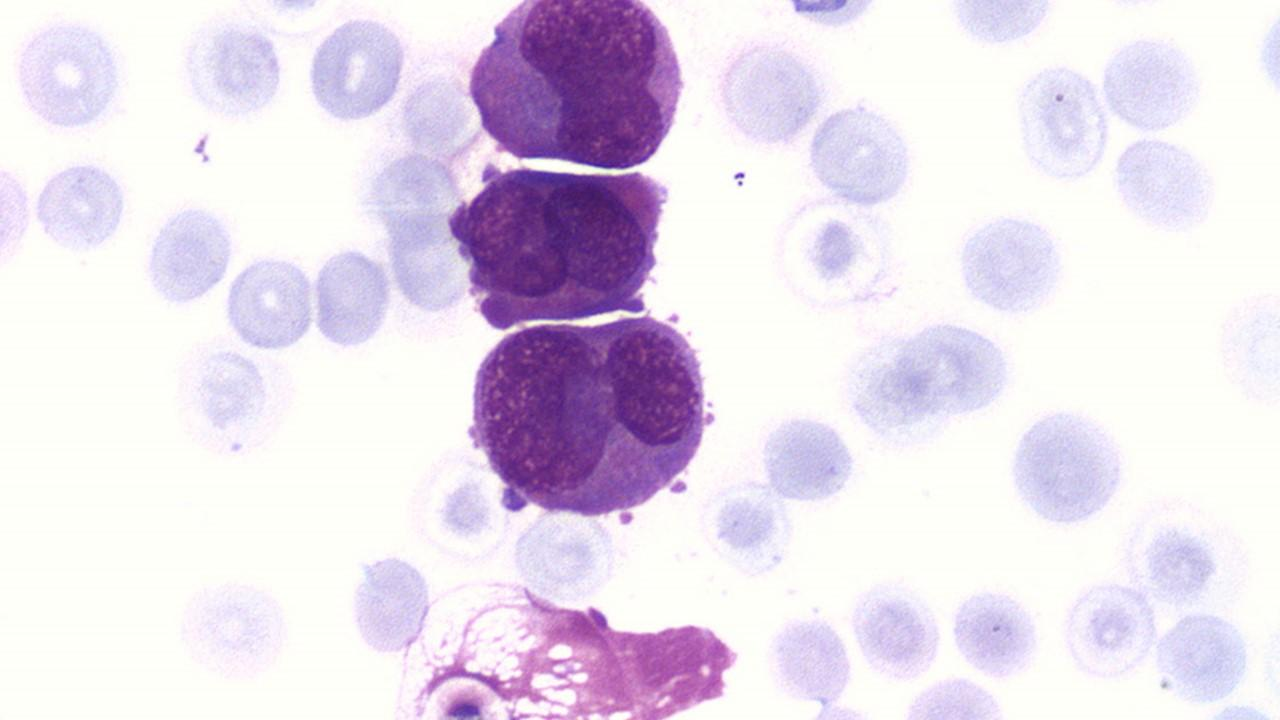Platelets: (616, 510, 636, 528)
RBC: (832, 312, 1022, 457), (165, 332, 306, 466), (1003, 398, 1135, 535), (6, 8, 137, 144), (767, 192, 905, 320), (708, 30, 834, 154), (950, 203, 1076, 325), (1123, 494, 1255, 610), (170, 572, 300, 688), (172, 8, 291, 129), (1008, 57, 1114, 192), (803, 94, 924, 210), (404, 446, 514, 566), (302, 8, 410, 130), (1108, 132, 1226, 241), (138, 193, 242, 313), (1098, 27, 1210, 136), (1055, 575, 1161, 686), (754, 406, 865, 511), (1149, 608, 1261, 710), (847, 572, 947, 683), (29, 156, 137, 258), (340, 546, 436, 658), (1209, 278, 1279, 430), (308, 240, 398, 356), (946, 581, 1046, 683), (761, 607, 858, 709), (221, 250, 316, 354), (700, 480, 796, 582), (934, 0, 1071, 56), (894, 673, 1014, 718), (0, 153, 37, 280), (770, 0, 890, 33), (1252, 0, 1280, 126)
WBC: (463, 304, 721, 524), (388, 589, 750, 717), (462, 0, 691, 175), (450, 158, 668, 334)
